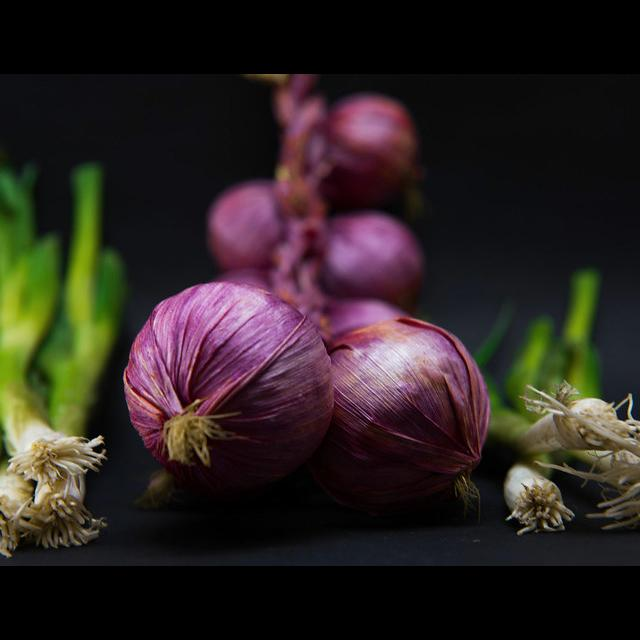green_onion: (0, 151, 126, 556), (487, 268, 640, 534)
onion: (124, 74, 490, 514)
